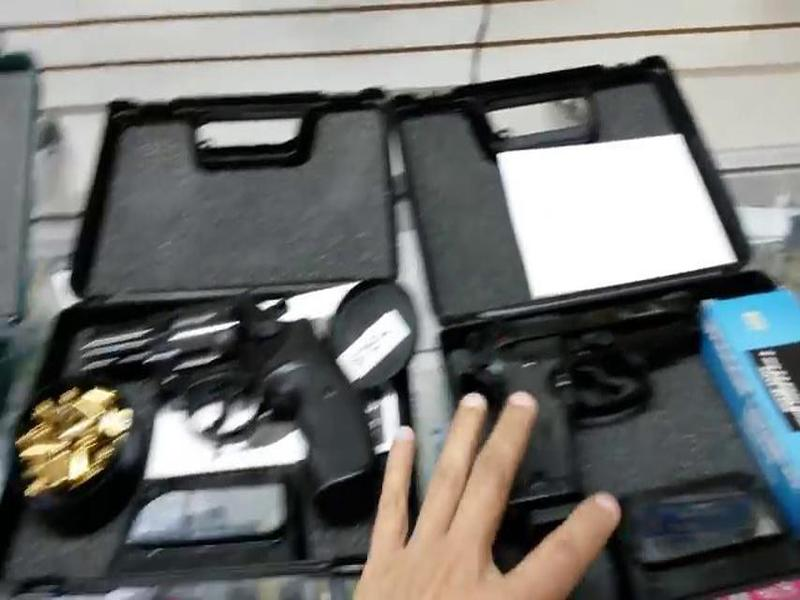Pistola: (466, 284, 731, 521)
Revolver: (83, 278, 390, 525)
